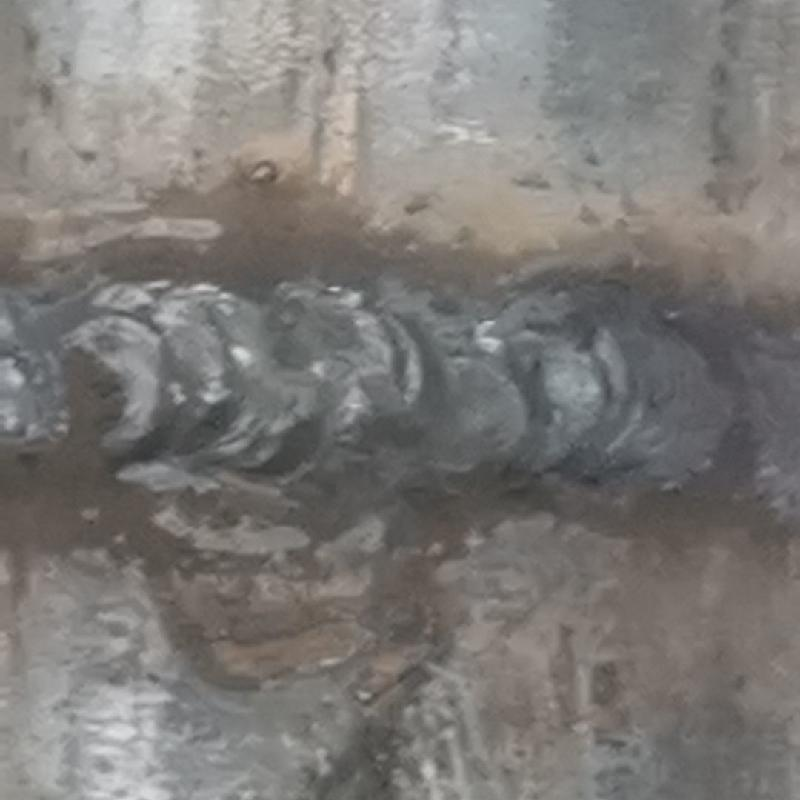good: (0, 270, 799, 537)
